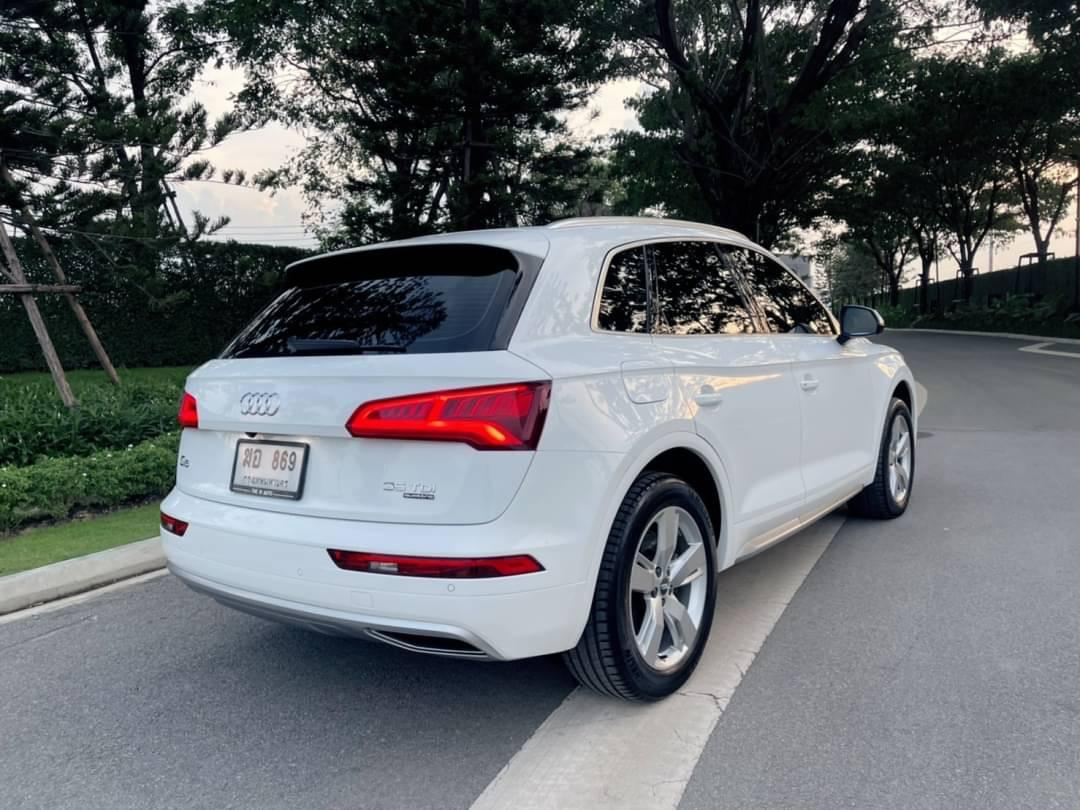license-plate: (229, 436, 308, 499)
